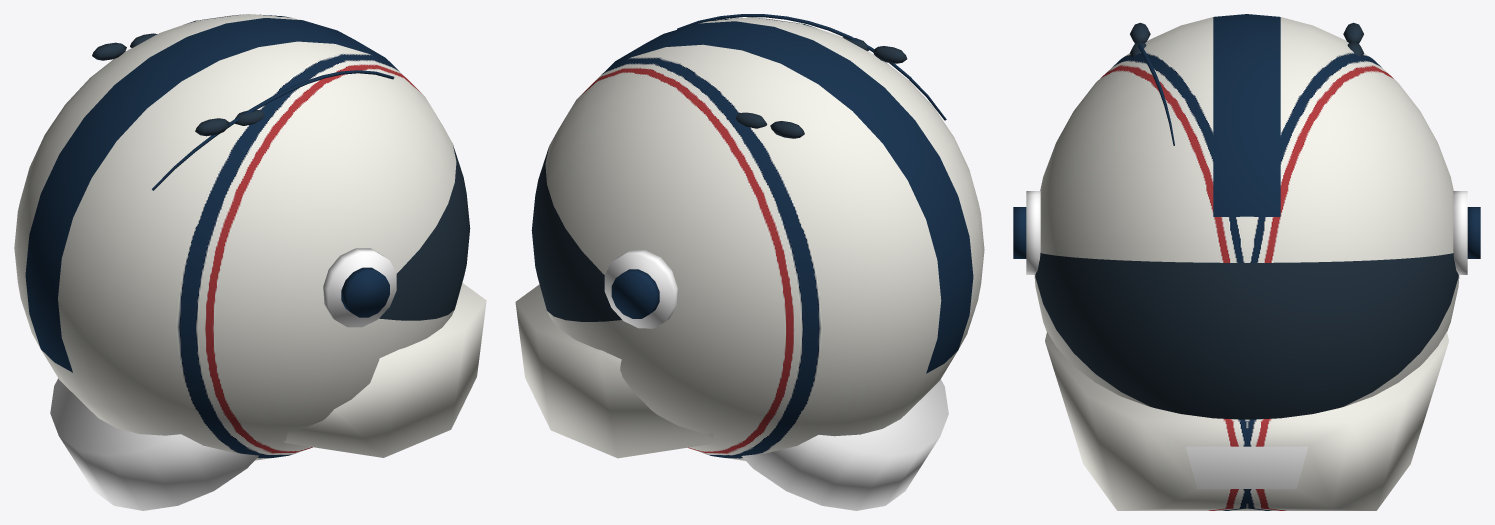
File: Helmet_02_N_紺舷・二本線.glb
3 views of the same model, side by side, from view 1: azimuth 30°, elevation 25°; view 2: azimuth 150°, elevation 25°; view 3: azimuth 270°, elevation 25° (orthographic). The views are drawn at different scales.
Visible parts, largest first — view 1: Helmet_02_N, Visor; view 2: Helmet_02_N, Visor; view 3: Helmet_02_N, Visor.
Boxes of the visible parts, x1=… form: Helmet_02_N: x1=14, y1=14, x2=486, y2=510; Visor: x1=92, y1=33, x2=470, y2=320; Helmet_02_N: x1=515, y1=14, x2=984, y2=510; Visor: x1=531, y1=37, x2=907, y2=321; Helmet_02_N: x1=1013, y1=14, x2=1480, y2=510; Visor: x1=1035, y1=22, x2=1458, y2=419.
Size of the model in its own units: 0.301 by 0.305 by 0.289.
3 materials, 3 textured.
